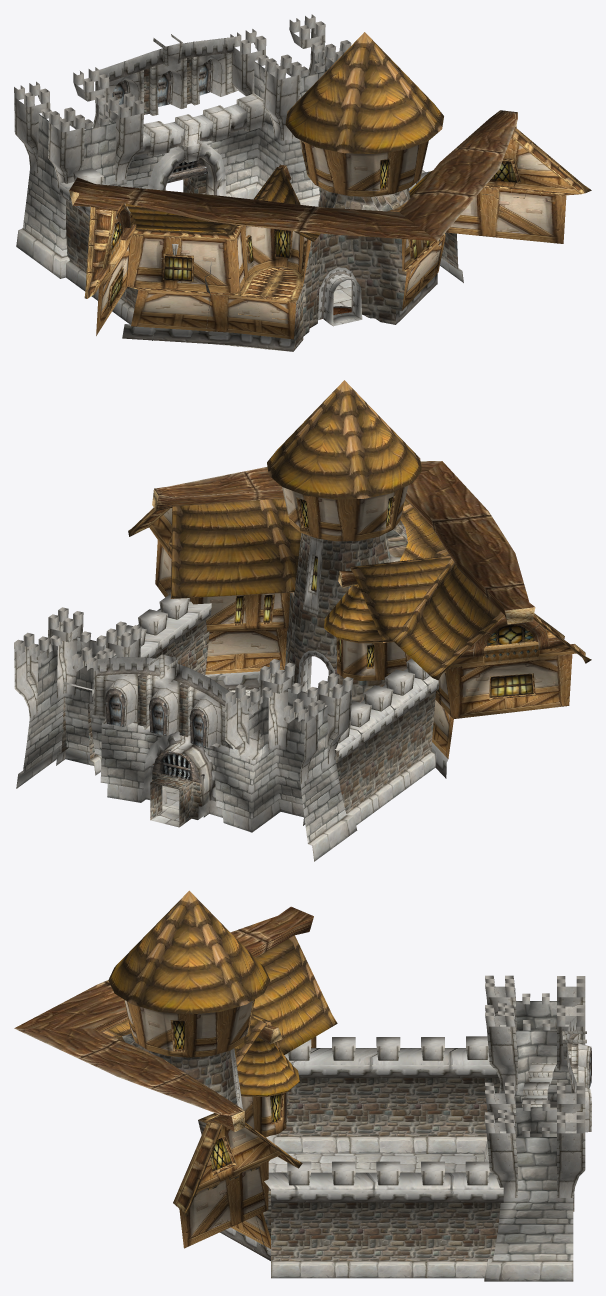
Rendered from stormwind_052.fbx.
3 renders of one model, top to bottom at view 1: azimuth 30°, elevation 25°; view 2: azimuth 150°, elevation 25°; view 3: azimuth 270°, elevation 25°, orthographic. The views are drawn at different scales.
Visible parts, largest first — view 1: stormwind_052_44, stormwind_052_40, stormwind_052_37, stormwind_052_83, stormwind_052_45, stormwind_052_39, stormwind_052_38, stormwind_052_36, stormwind_052_80, stormwind_052_14, stormwind_052_52; view 2: stormwind_052_83, stormwind_052_40, stormwind_052_39, stormwind_052_38, stormwind_052_45, stormwind_052_44, stormwind_052_36, stormwind_052_37, stormwind_052_14, stormwind_052_80, stormwind_052_43, stormwind_052_52; view 3: stormwind_052_38, stormwind_052_83, stormwind_052_45, stormwind_052_40, stormwind_052_44, stormwind_052_39, stormwind_052_37, stormwind_052_52, stormwind_052_36, stormwind_052_80.
Part boxes in pixels (<box>): stormwind_052_44: <box>69,110,585,308</box>; stormwind_052_40: <box>14,14,430,255</box>; stormwind_052_37: <box>127,139,566,293</box>; stormwind_052_83: <box>84,32,591,298</box>; stormwind_052_45: <box>16,37,463,351</box>; stormwind_052_39: <box>23,52,333,257</box>; stormwind_052_38: <box>66,57,458,351</box>; stormwind_052_36: <box>96,139,580,339</box>; stormwind_052_80: <box>109,159,516,306</box>; stormwind_052_14: <box>112,59,211,183</box>; stormwind_052_52: <box>212,280,351,351</box>; stormwind_052_83: <box>128,380,591,680</box>; stormwind_052_40: <box>14,536,429,783</box>; stormwind_052_39: <box>22,636,346,843</box>; stormwind_052_38: <box>61,520,435,827</box>; stormwind_052_45: <box>16,601,448,861</box>; stormwind_052_44: <box>129,461,585,699</box>; stormwind_052_36: <box>149,508,576,758</box>; stormwind_052_37: <box>155,485,453,718</box>; stormwind_052_14: <box>105,688,206,783</box>; stormwind_052_80: <box>235,497,534,697</box>; stormwind_052_43: <box>152,489,538,672</box>; stormwind_052_52: <box>150,689,251,827</box>; stormwind_052_38: <box>122,1033,578,1260</box>; stormwind_052_83: <box>103,890,337,1216</box>; stormwind_052_45: <box>220,1016,578,1281</box>; stormwind_052_40: <box>230,975,591,1197</box>; stormwind_052_44: <box>14,906,313,1212</box>; stormwind_052_39: <box>493,1001,573,1261</box>; stormwind_052_37: <box>123,999,316,1248</box>; stormwind_052_52: <box>268,1153,491,1172</box>; stormwind_052_36: <box>196,1125,282,1248</box>; stormwind_052_80: <box>173,1021,287,1171</box>.
Bounding box in the file's own units: 65.21 × 40.04 × 65.7.
